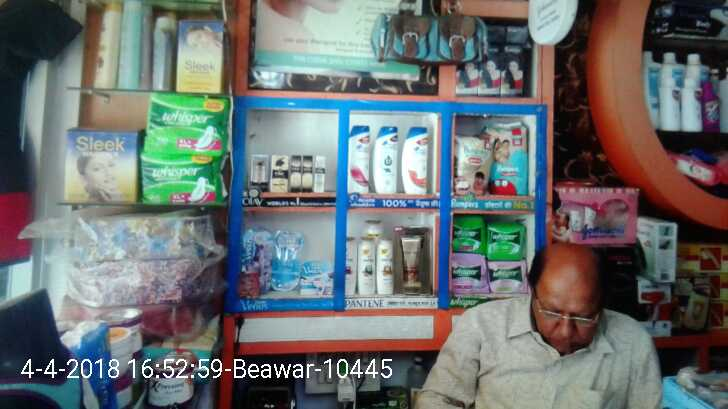venus: (247, 225, 272, 292), (275, 228, 299, 288), (301, 261, 332, 290)
